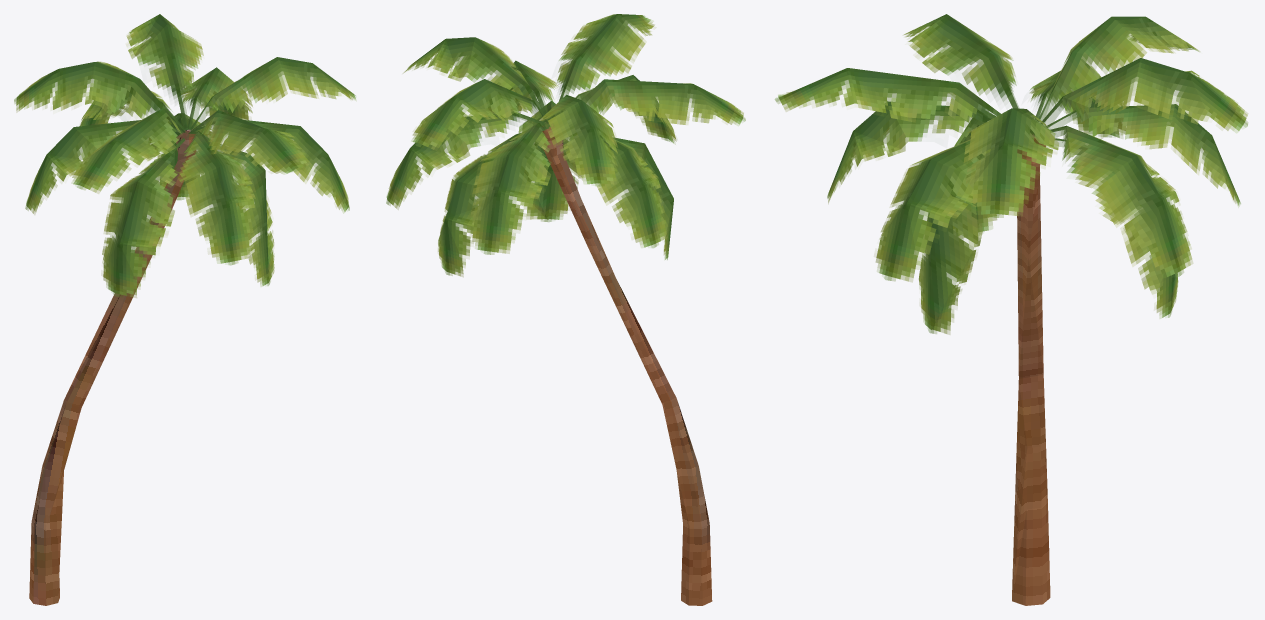
File: bay-palm-2.lod2.glb
3 renders of one model, left to right at view 1: azimuth 30°, elevation 25°; view 2: azimuth 150°, elevation 25°; view 3: azimuth 270°, elevation 25°, orthographic. The views are drawn at different scales.
Parts seen in each view (by area): view 1: Leaf_3_Leaf_3_0, Bark_3_Bark_3_0; view 2: Leaf_3_Leaf_3_0, Bark_3_Bark_3_0; view 3: Leaf_3_Leaf_3_0, Bark_3_Bark_3_0.
Part boxes in pixels (box(x1,y1,x2,y2)): Leaf_3_Leaf_3_0: box(14, 14, 356, 297); Bark_3_Bark_3_0: box(29, 129, 196, 605); Leaf_3_Leaf_3_0: box(386, 14, 745, 276); Bark_3_Bark_3_0: box(542, 125, 712, 605); Leaf_3_Leaf_3_0: box(775, 14, 1247, 334); Bark_3_Bark_3_0: box(1012, 133, 1050, 605).
Bounding box in the file's own units: 4.19 × 6.5 × 4.36.
2 materials, 2 textured.
